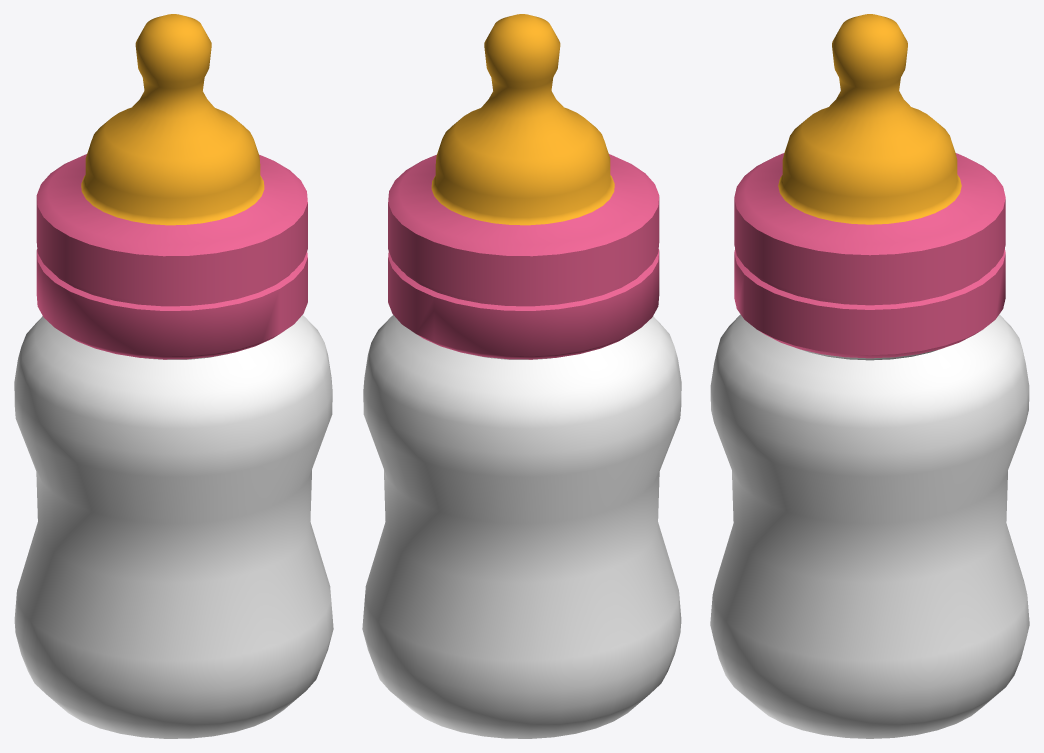
The model's file is Babybottle.gltf.
3 views of the same model, side by side, from view 1: azimuth 30°, elevation 25°; view 2: azimuth 150°, elevation 25°; view 3: azimuth 270°, elevation 25° (orthographic).
Parts seen in each view (by area): view 1: BabyBottle; view 2: BabyBottle; view 3: BabyBottle.
Part boxes in pixels (x1,y1,x2,y2): BabyBottle: [14, 14, 333, 738]; BabyBottle: [362, 14, 681, 738]; BabyBottle: [710, 14, 1029, 738].
Size of the model in its own units: 0.495 by 1.16 by 0.4946.
Materials: 1 (1 with a texture image).
